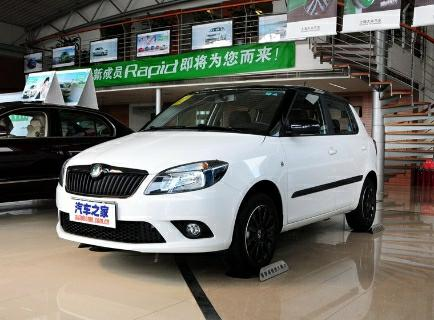car: (47, 80, 393, 278)
